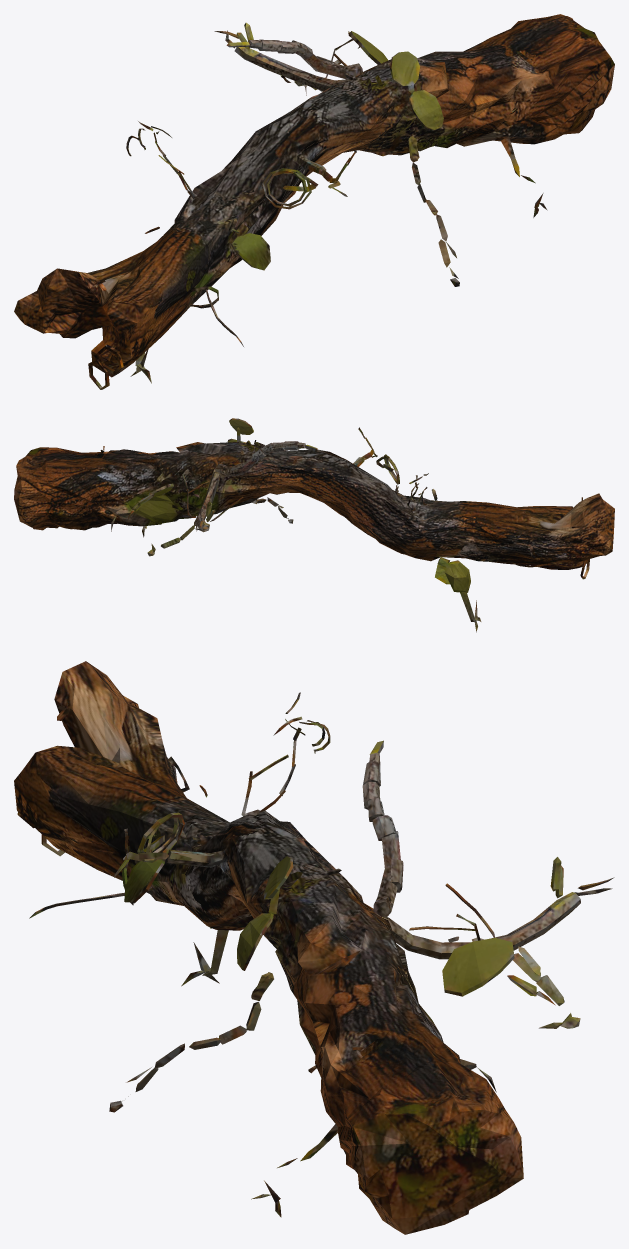
File: tree_branch_3lanes.glb
3 renders of one model, top to bottom at view 1: azimuth 30°, elevation 25°; view 2: azimuth 150°, elevation 25°; view 3: azimuth 270°, elevation 25°, orthographic. The views are drawn at different scales.
Parts seen in each view (by area): view 1: tree_branch_B; view 2: tree_branch_B; view 3: tree_branch_B.
Boxes of the visible parts, left/top/right/bottom form: tree_branch_B: left=14, top=14, right=614, bottom=389; tree_branch_B: left=14, top=418, right=614, bottom=632; tree_branch_B: left=14, top=661, right=614, bottom=1234.
Bounding box in the file's own units: 8.27 × 2.92 × 4.53.
Materials: 1 (1 with a texture image).
